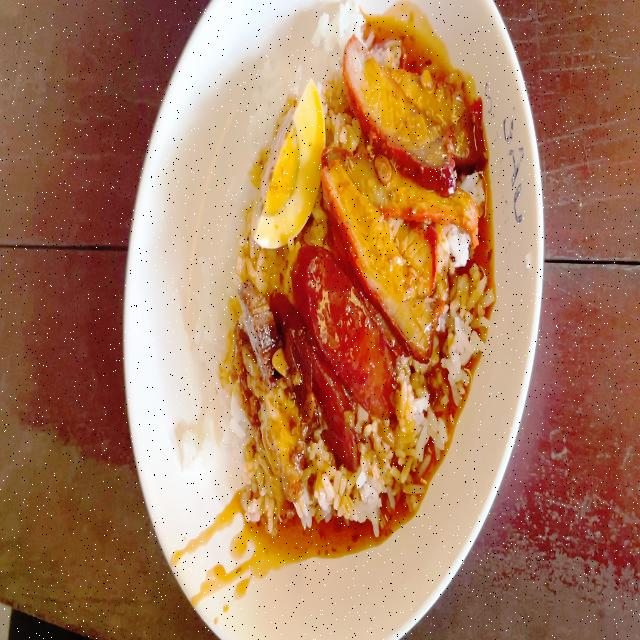boiled_egg: (263, 79, 333, 243)
chainese_sausage: (296, 247, 396, 453)
crispy_pork: (248, 283, 302, 482)
red_pork: (337, 36, 475, 318)
red_pork_and_crispy_pork: (236, 0, 487, 524)
rice: (313, 458, 405, 530), (404, 351, 449, 492)
